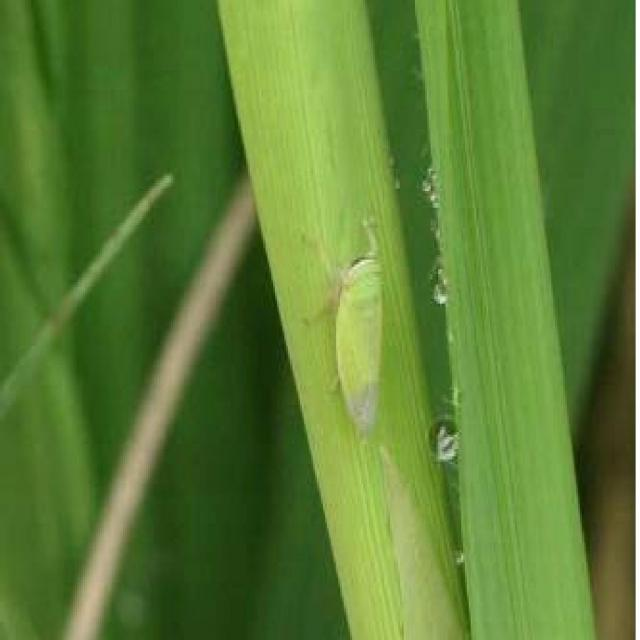Yechan: (309, 212, 390, 450)
